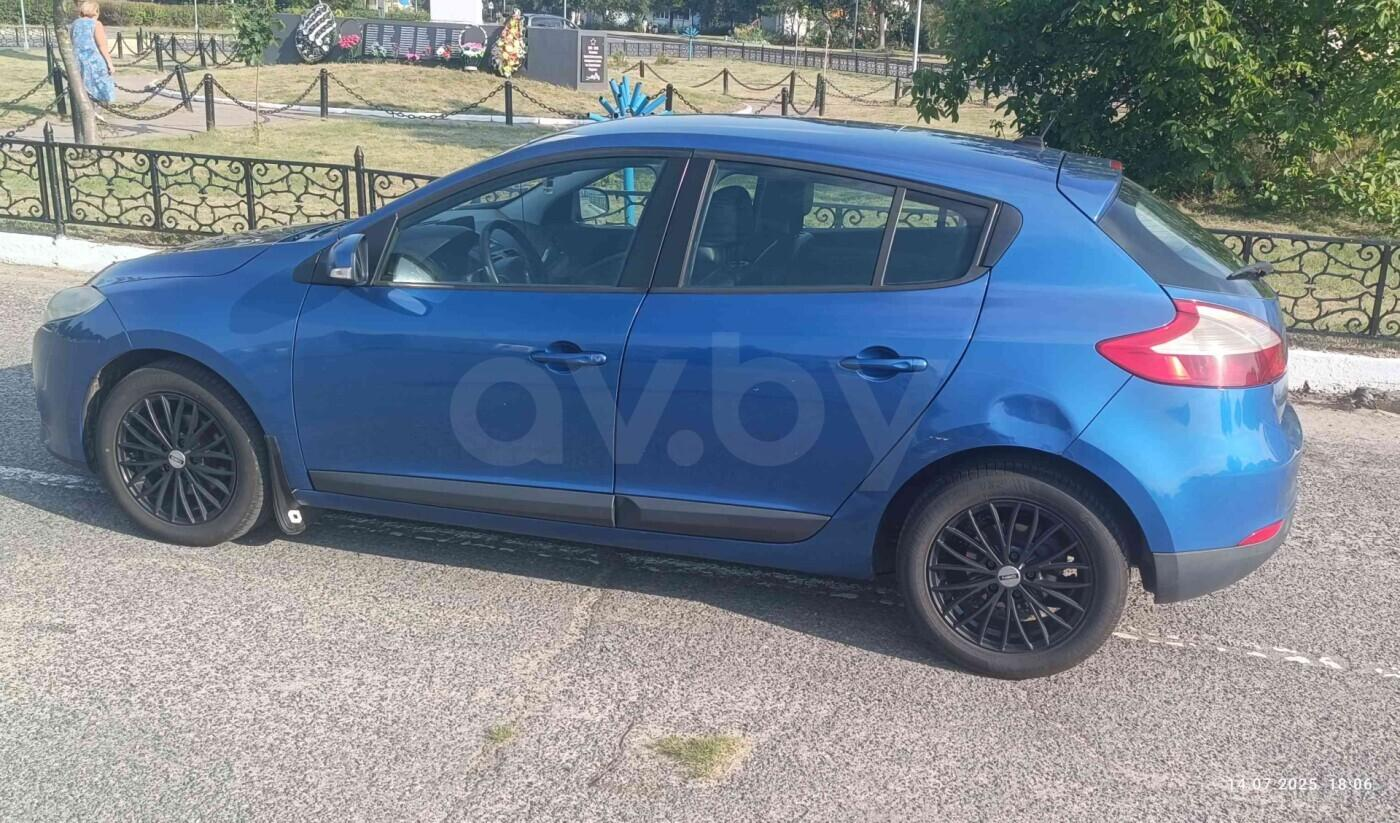Megane_2008-2014: (33, 107, 1301, 681)
